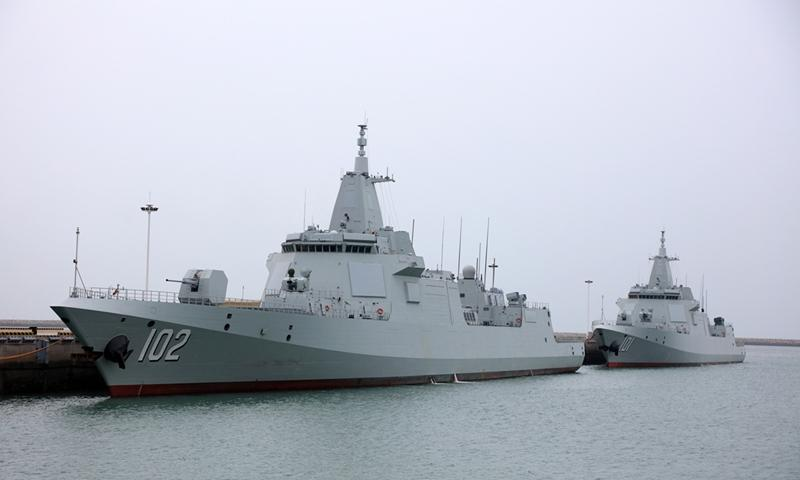MIL_Ship: (50, 121, 587, 389), (589, 226, 744, 366)
